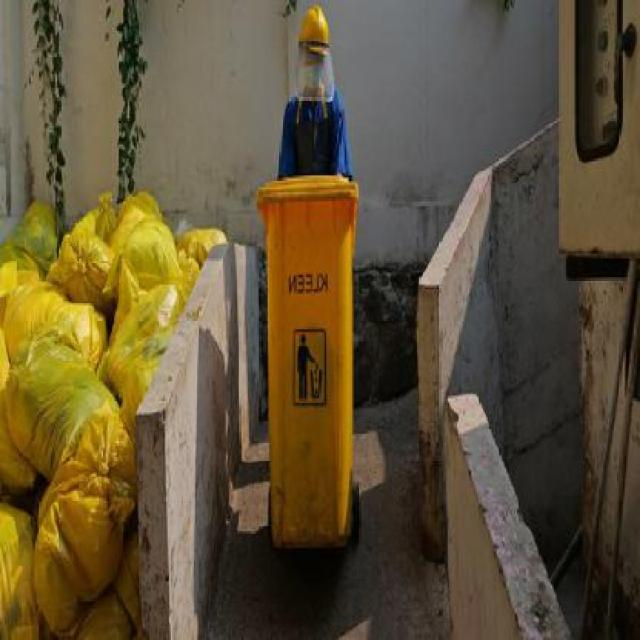garbage container: (250, 165, 367, 567)
